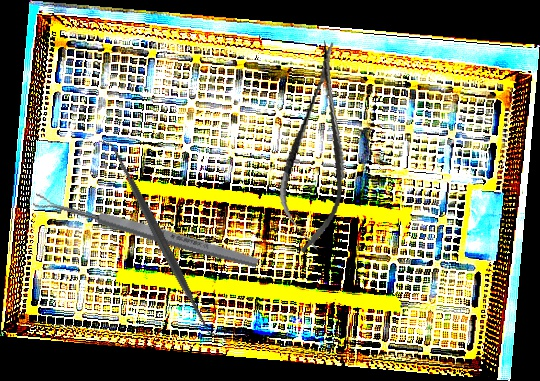Micro Scissor: (270, 37, 365, 257)
Spatula Surgical: (96, 129, 223, 347)
Surgical Spoon: (32, 191, 260, 271)
